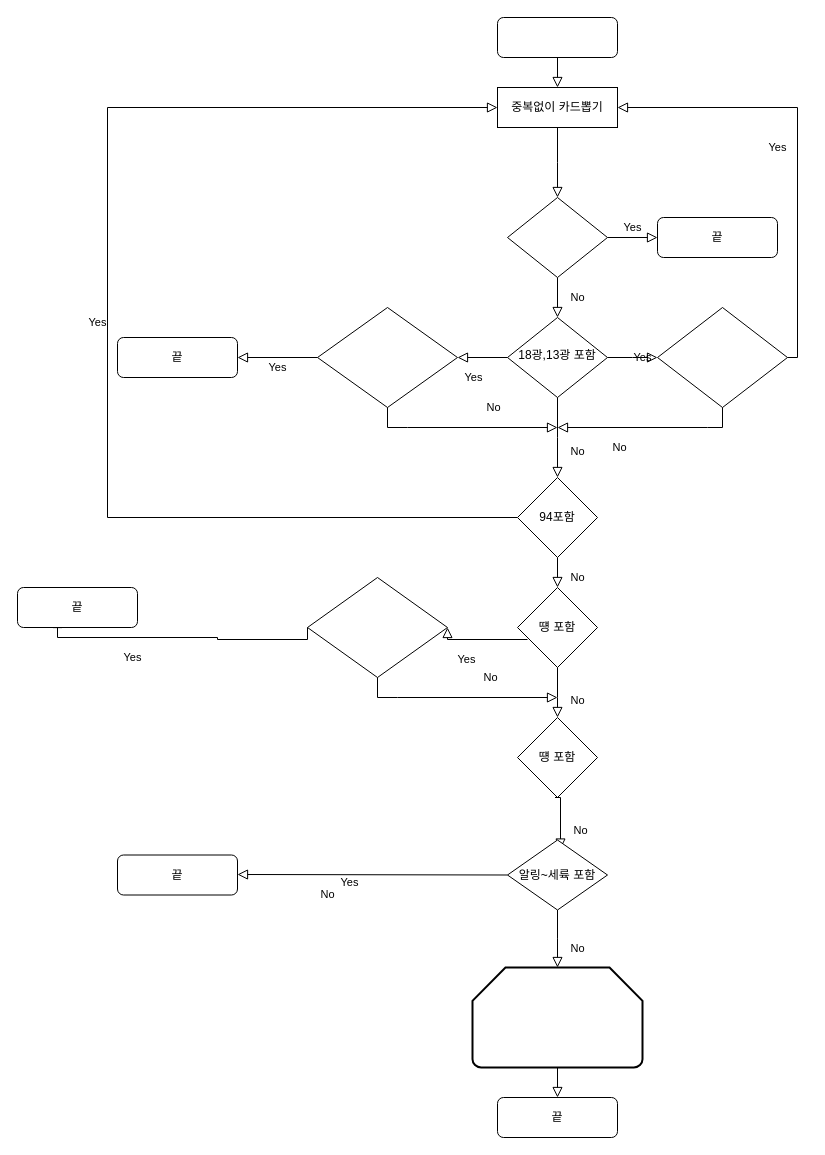
The diagram is 825 pixels wide and 1155 high, and some of its shapes have lost their labels. Here are the shapes that lost their labels. From the top down, the centre of each, then its label:
the point at 557,37: 시작
the point at 557,237: 38광 포함
the point at 387,357: 나머지 카드가 47 암행어사 포함
the point at 722,357: 나머지 카드도 18광,13광 포함
the point at 377,627: 나머지 카드가 37 땡잡이 포함
the point at 557,1017: 나머지 47,37과 그외 조합들의 끗으로 결정 만약 같으면 다시 게임
